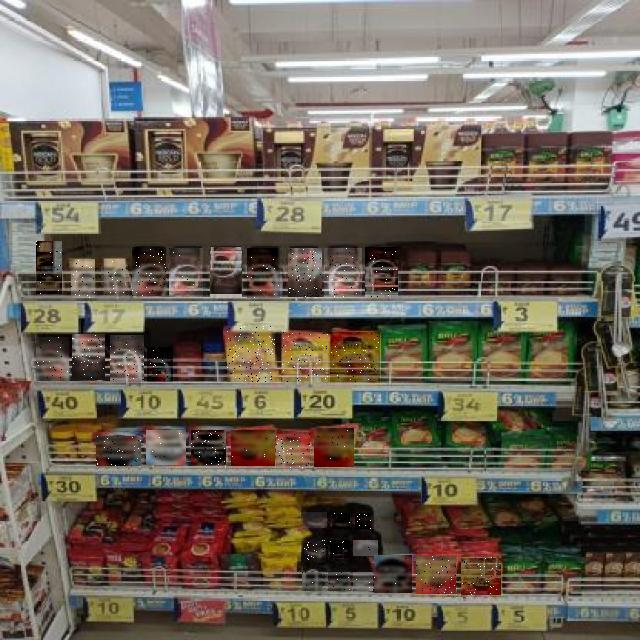Coffee: (227, 326, 275, 382), (331, 332, 381, 382), (283, 330, 329, 382), (324, 248, 362, 297), (170, 248, 206, 297), (248, 248, 282, 298), (132, 247, 166, 296), (289, 248, 323, 297), (365, 248, 398, 298), (210, 248, 242, 298), (231, 431, 275, 467), (110, 336, 144, 382), (314, 428, 354, 467), (416, 557, 456, 595), (461, 557, 501, 595), (72, 335, 105, 381), (36, 337, 69, 381), (374, 555, 412, 593), (146, 430, 186, 465), (36, 241, 62, 294), (96, 436, 141, 466), (191, 430, 226, 465), (276, 435, 310, 469), (71, 259, 95, 298), (147, 347, 173, 382), (104, 259, 125, 295), (303, 540, 326, 562), (328, 572, 350, 591), (301, 512, 327, 528), (353, 541, 378, 557), (303, 572, 323, 591), (353, 572, 373, 591), (330, 540, 350, 558), (356, 513, 376, 529), (332, 513, 350, 529)
